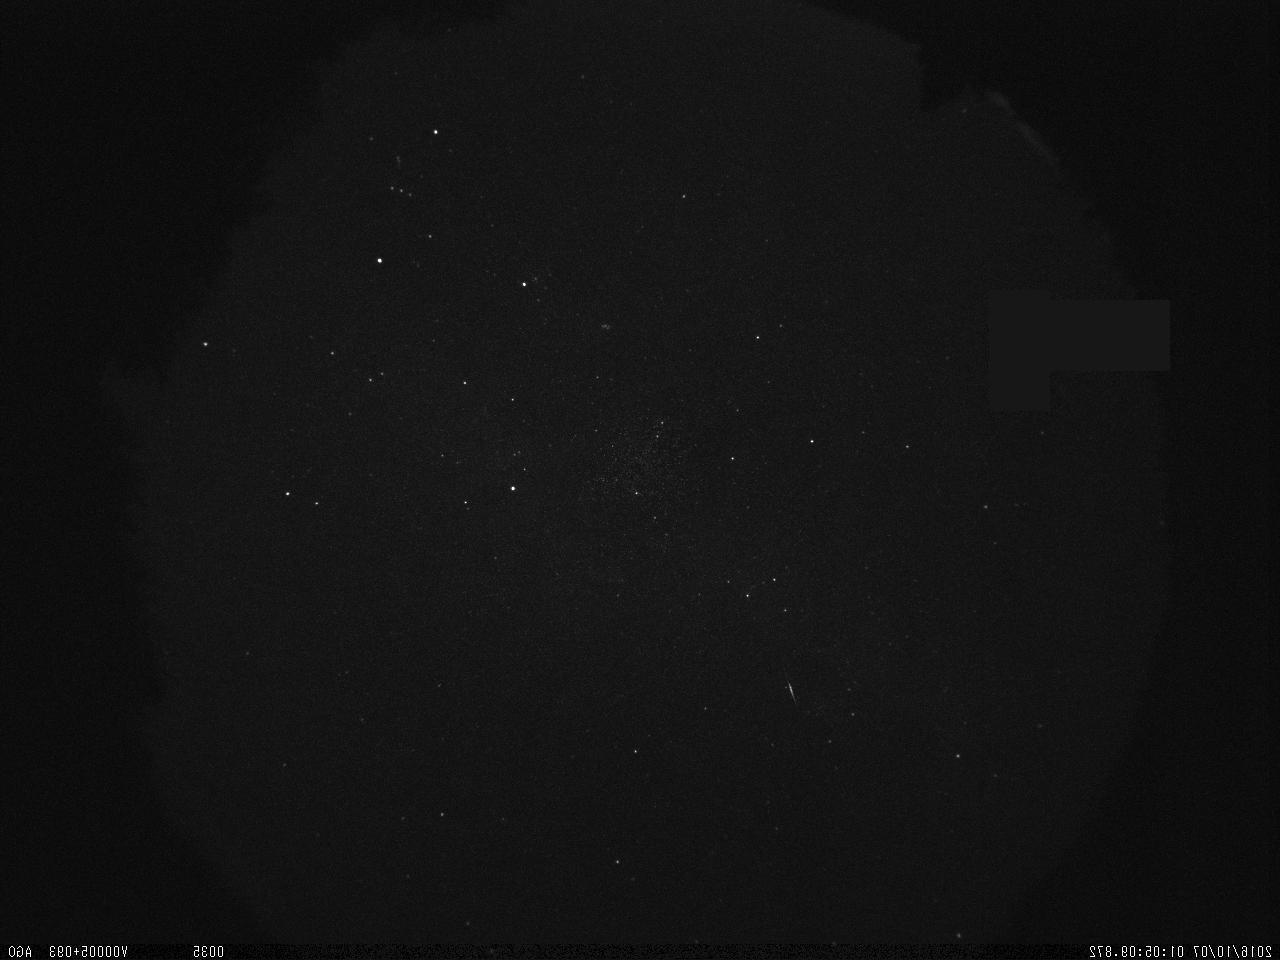meteor: (770, 672, 811, 713)
